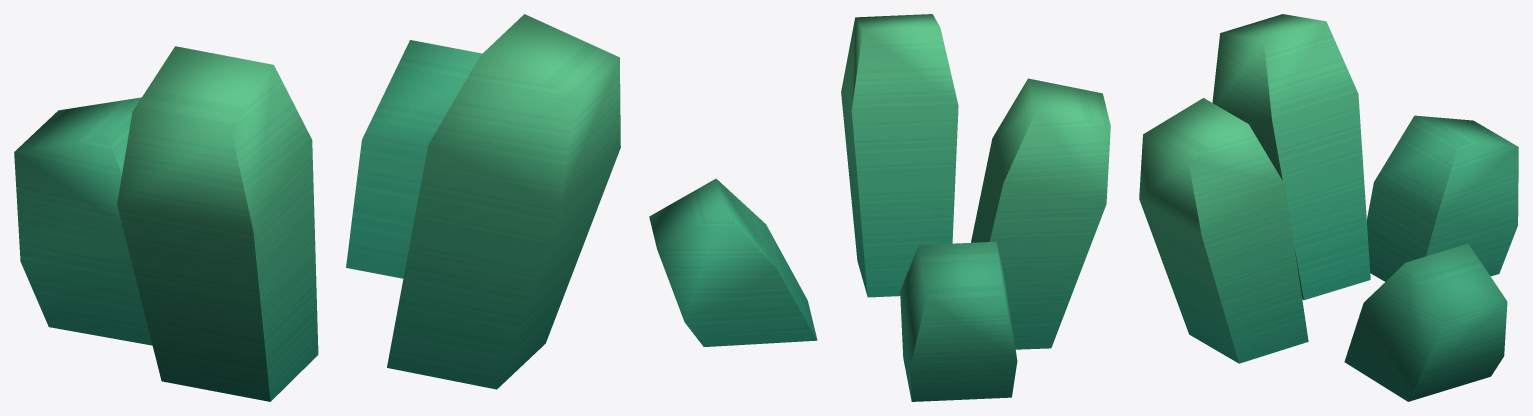
Rendered from grass.006_lev2.glb.
3 views of the same model, side by side, from view 1: azimuth 30°, elevation 25°; view 2: azimuth 150°, elevation 25°; view 3: azimuth 270°, elevation 25° (orthographic). The views are drawn at different scales.
Visible parts, largest first — view 1: grass.006_lev2; view 2: grass.006_lev2; view 3: grass.006_lev2.
Boxes of the visible parts, <box> form: grass.006_lev2: <box>14,14,620,401</box>; grass.006_lev2: <box>649,14,1110,401</box>; grass.006_lev2: <box>1139,14,1518,401</box>.
Size of the model in its own units: 0.5334 by 0.3139 by 0.4608.
1 material, 1 textured.
